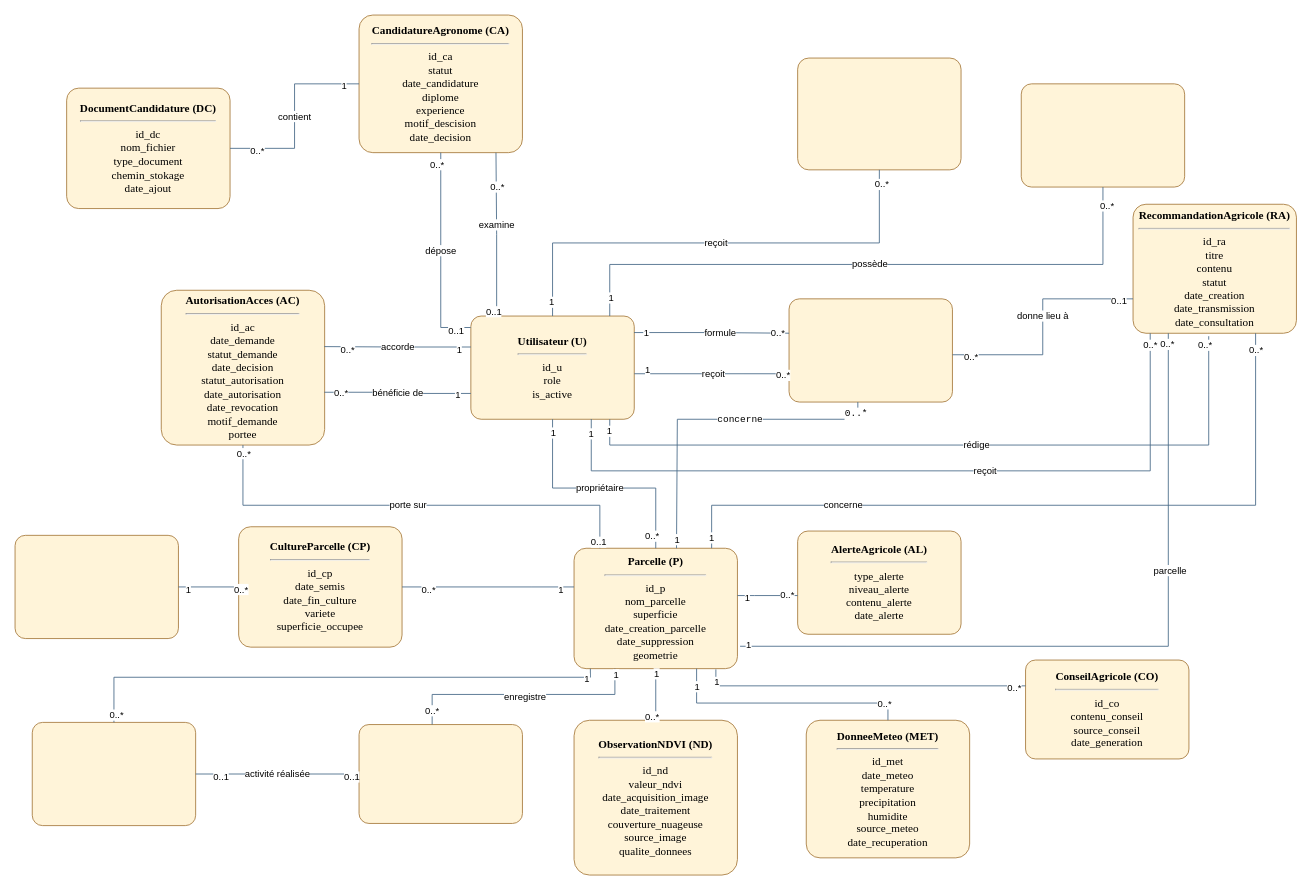
The diagram is 1312 pixels wide and 890 high, and some of its shapes have lost their labels. Each missing label, with the centre of its shape:
"ActiviteAgricole (AA) idAA type_activite date_activite description intrant" belongs at pixel 440 773.
"ActivitePlanifiee (AP) id_ap type_activite date_prevue statut date_report" belongs at pixel 113 774.
"Culture (CUL) id_cul nom_culture description_culture" belongs at pixel 96 586.
"DemandeRecommandation (DR) id_dr date_demande date_traitement motif_decision" belongs at pixel 870 350.
"Notification (N) id_n contenu type_notification date_creation date_lecture" belongs at pixel 879 113.
"PreferenceNotification (PN) id_pn categorie_notification canal est_active" belongs at pixel 1102 135.
